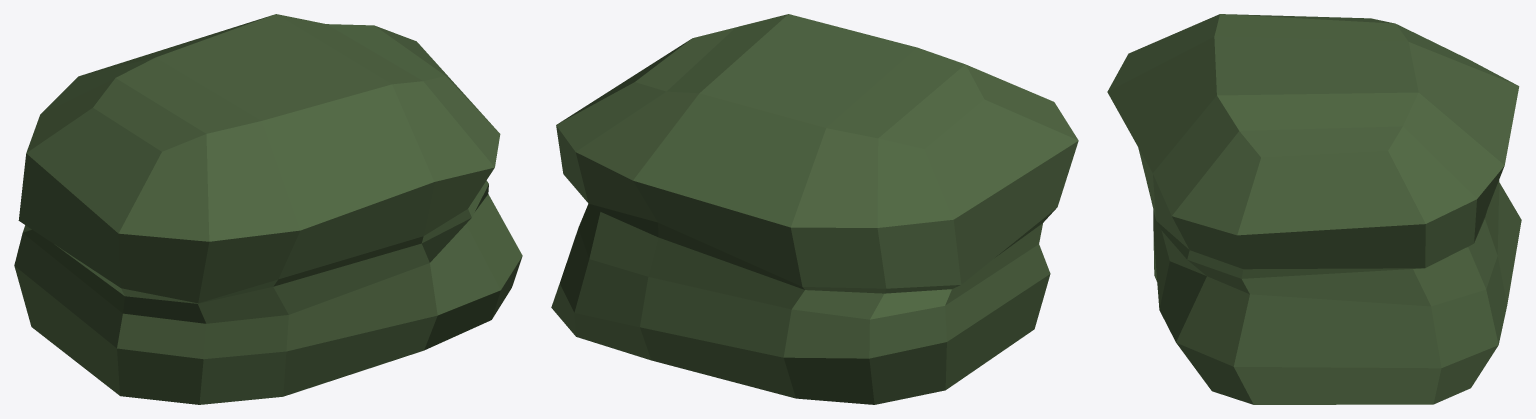
Rendered from bushberries_3.gltf.
3 views of the same model, side by side, from view 1: azimuth 30°, elevation 25°; view 2: azimuth 150°, elevation 25°; view 3: azimuth 270°, elevation 25° (orthographic). The views are drawn at different scales.
Parts seen in each view (by area): view 1: bushberries_3; view 2: bushberries_3; view 3: bushberries_3.
Boxes of the visible parts, x1,y1,x2,y2 form: bushberries_3: (14, 14, 522, 404); bushberries_3: (551, 14, 1078, 404); bushberries_3: (1107, 14, 1521, 404).
Bounding box in the file's own units: 1.27 × 0.7438 × 1.11.
1 material, 1 textured.
